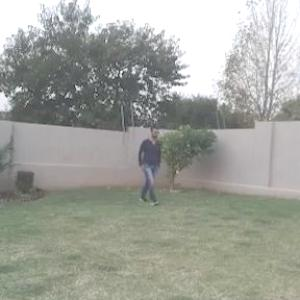follow: (134, 123, 162, 207)
